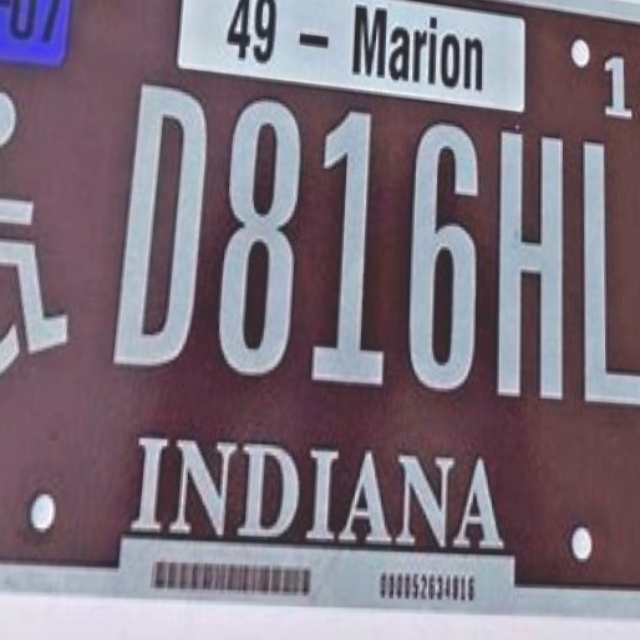ISA: (0, 85, 97, 392)
